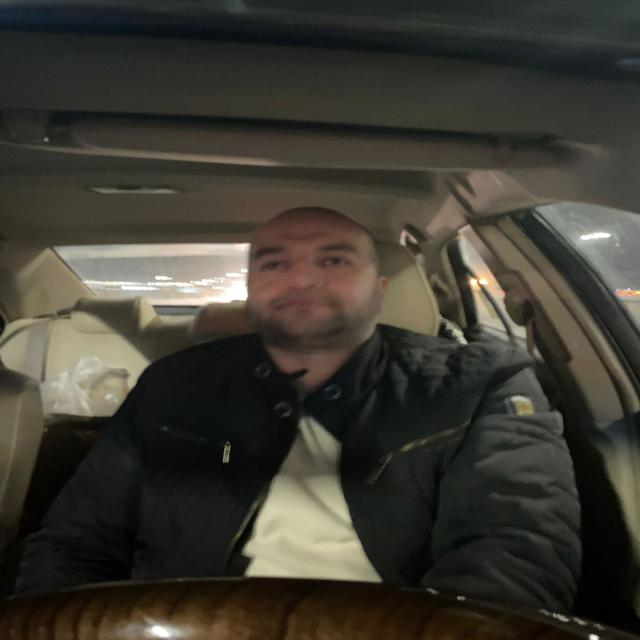person: (246, 203, 391, 354)
